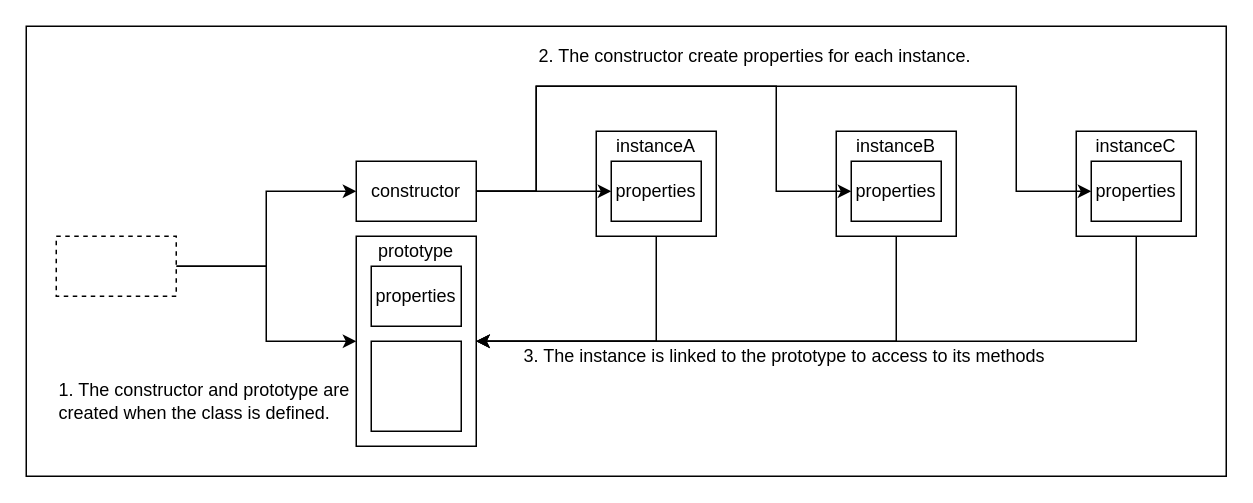
This 1253x503 diagram has some shape labels left out. Here are the shapes that lost their labels. From the top down, the box of each, then its label:
(55, 235, 176, 296): class
(370, 340, 461, 431): methods
